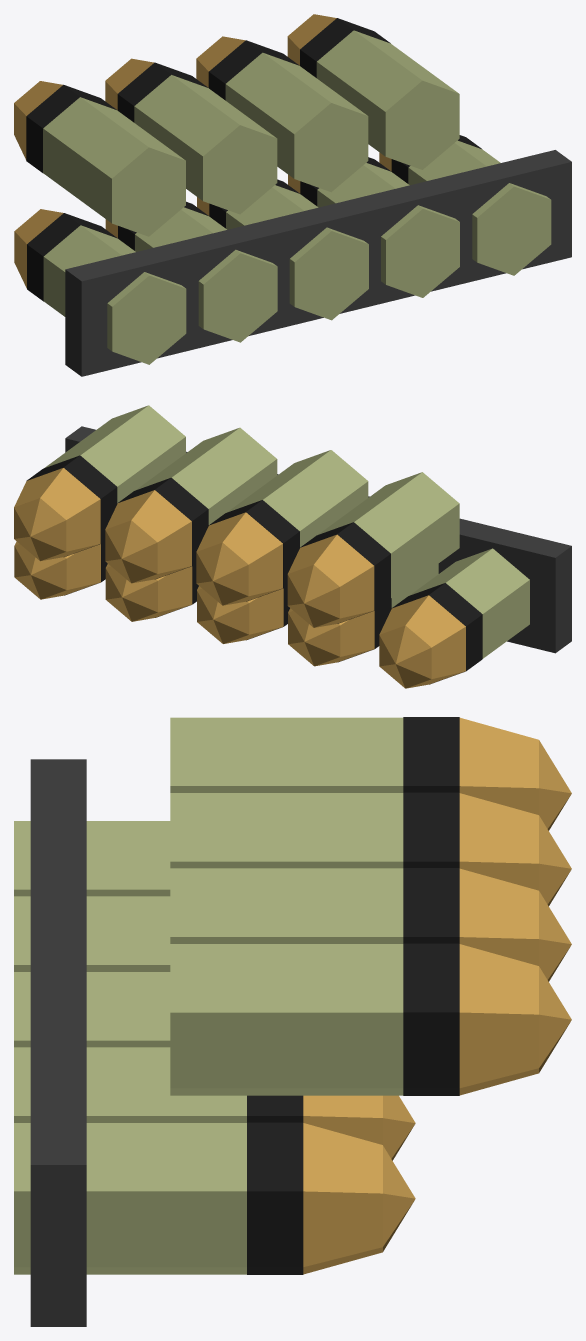
File: ce_ammo_grenade_he_b.obj
3 views of the same model, one above another, from view 1: azimuth 30°, elevation 25°; view 2: azimuth 150°, elevation 25°; view 3: azimuth 270°, elevation 25° (orthographic). The views are drawn at different scales.
Parts seen in each view (by area): view 1: ce_ammo_grenade_he_b_36, ce_ammo_grenade_he_b_20, ce_ammo_grenade_he_b_28, ce_ammo_grenade_he_b_24, ce_ammo_grenade_he_b_32, ce_ammo_grenade_he_b_0, ce_ammo_grenade_he_b_16, ce_ammo_grenade_he_b_8, ce_ammo_grenade_he_b_4, ce_ammo_grenade_he_b_12, ce_ammo_grenade_he_b_21, ce_ammo_grenade_he_b_1 (+8 smaller); view 2: ce_ammo_grenade_he_b_20, ce_ammo_grenade_he_b_36, ce_ammo_grenade_he_b_28, ce_ammo_grenade_he_b_24, ce_ammo_grenade_he_b_32, ce_ammo_grenade_he_b_0, ce_ammo_grenade_he_b_22, ce_ammo_grenade_he_b_30, ce_ammo_grenade_he_b_34, ce_ammo_grenade_he_b_2, ce_ammo_grenade_he_b_26, ce_ammo_grenade_he_b_3 (+19 smaller); view 3: ce_ammo_grenade_he_b_32, ce_ammo_grenade_he_b_36, ce_ammo_grenade_he_b_16, ce_ammo_grenade_he_b_28, ce_ammo_grenade_he_b_20, ce_ammo_grenade_he_b_24, ce_ammo_grenade_he_b_34, ce_ammo_grenade_he_b_18, ce_ammo_grenade_he_b_12, ce_ammo_grenade_he_b_33, ce_ammo_grenade_he_b_17, ce_ammo_grenade_he_b_4 (+16 smaller).
Boxes of the visible parts, x1,y1,x2,y2 form: ce_ammo_grenade_he_b_36: (65, 150, 571, 376); ce_ammo_grenade_he_b_20: (43, 97, 185, 236); ce_ammo_grenade_he_b_28: (225, 52, 368, 192); ce_ammo_grenade_he_b_24: (134, 75, 277, 214); ce_ammo_grenade_he_b_32: (316, 30, 459, 169); ce_ammo_grenade_he_b_0: (43, 225, 186, 364); ce_ammo_grenade_he_b_16: (408, 140, 551, 275); ce_ammo_grenade_he_b_8: (226, 185, 368, 320); ce_ammo_grenade_he_b_4: (135, 207, 277, 342); ce_ammo_grenade_he_b_12: (317, 162, 459, 297); ce_ammo_grenade_he_b_21: (26, 84, 116, 172); ce_ammo_grenade_he_b_1: (27, 213, 117, 301); ce_ammo_grenade_he_b_20: (318, 472, 459, 597); ce_ammo_grenade_he_b_36: (65, 426, 571, 653); ce_ammo_grenade_he_b_28: (135, 427, 277, 524); ce_ammo_grenade_he_b_24: (226, 450, 368, 547); ce_ammo_grenade_he_b_32: (44, 405, 185, 503); ce_ammo_grenade_he_b_0: (409, 548, 529, 658); ce_ammo_grenade_he_b_22: (288, 534, 374, 627); ce_ammo_grenade_he_b_30: (105, 490, 191, 583); ce_ammo_grenade_he_b_34: (14, 468, 100, 560); ce_ammo_grenade_he_b_2: (379, 595, 465, 688); ce_ammo_grenade_he_b_26: (196, 512, 282, 605); ce_ammo_grenade_he_b_3: (379, 625, 431, 688); ce_ammo_grenade_he_b_32: (170, 944, 403, 1095); ce_ammo_grenade_he_b_36: (30, 759, 86, 1326); ce_ammo_grenade_he_b_16: (14, 1123, 246, 1274); ce_ammo_grenade_he_b_28: (170, 868, 403, 943); ce_ammo_grenade_he_b_20: (170, 717, 403, 792); ce_ammo_grenade_he_b_24: (170, 793, 403, 868); ce_ammo_grenade_he_b_34: (459, 944, 538, 1095); ce_ammo_grenade_he_b_18: (303, 1123, 382, 1274); ce_ammo_grenade_he_b_12: (14, 1047, 246, 1122); ce_ammo_grenade_he_b_33: (403, 943, 459, 1095); ce_ammo_grenade_he_b_17: (247, 1122, 303, 1274); ce_ammo_grenade_he_b_4: (14, 896, 170, 971).
Size of the model in its own units: 0.86 by 0.2904 by 0.5.
